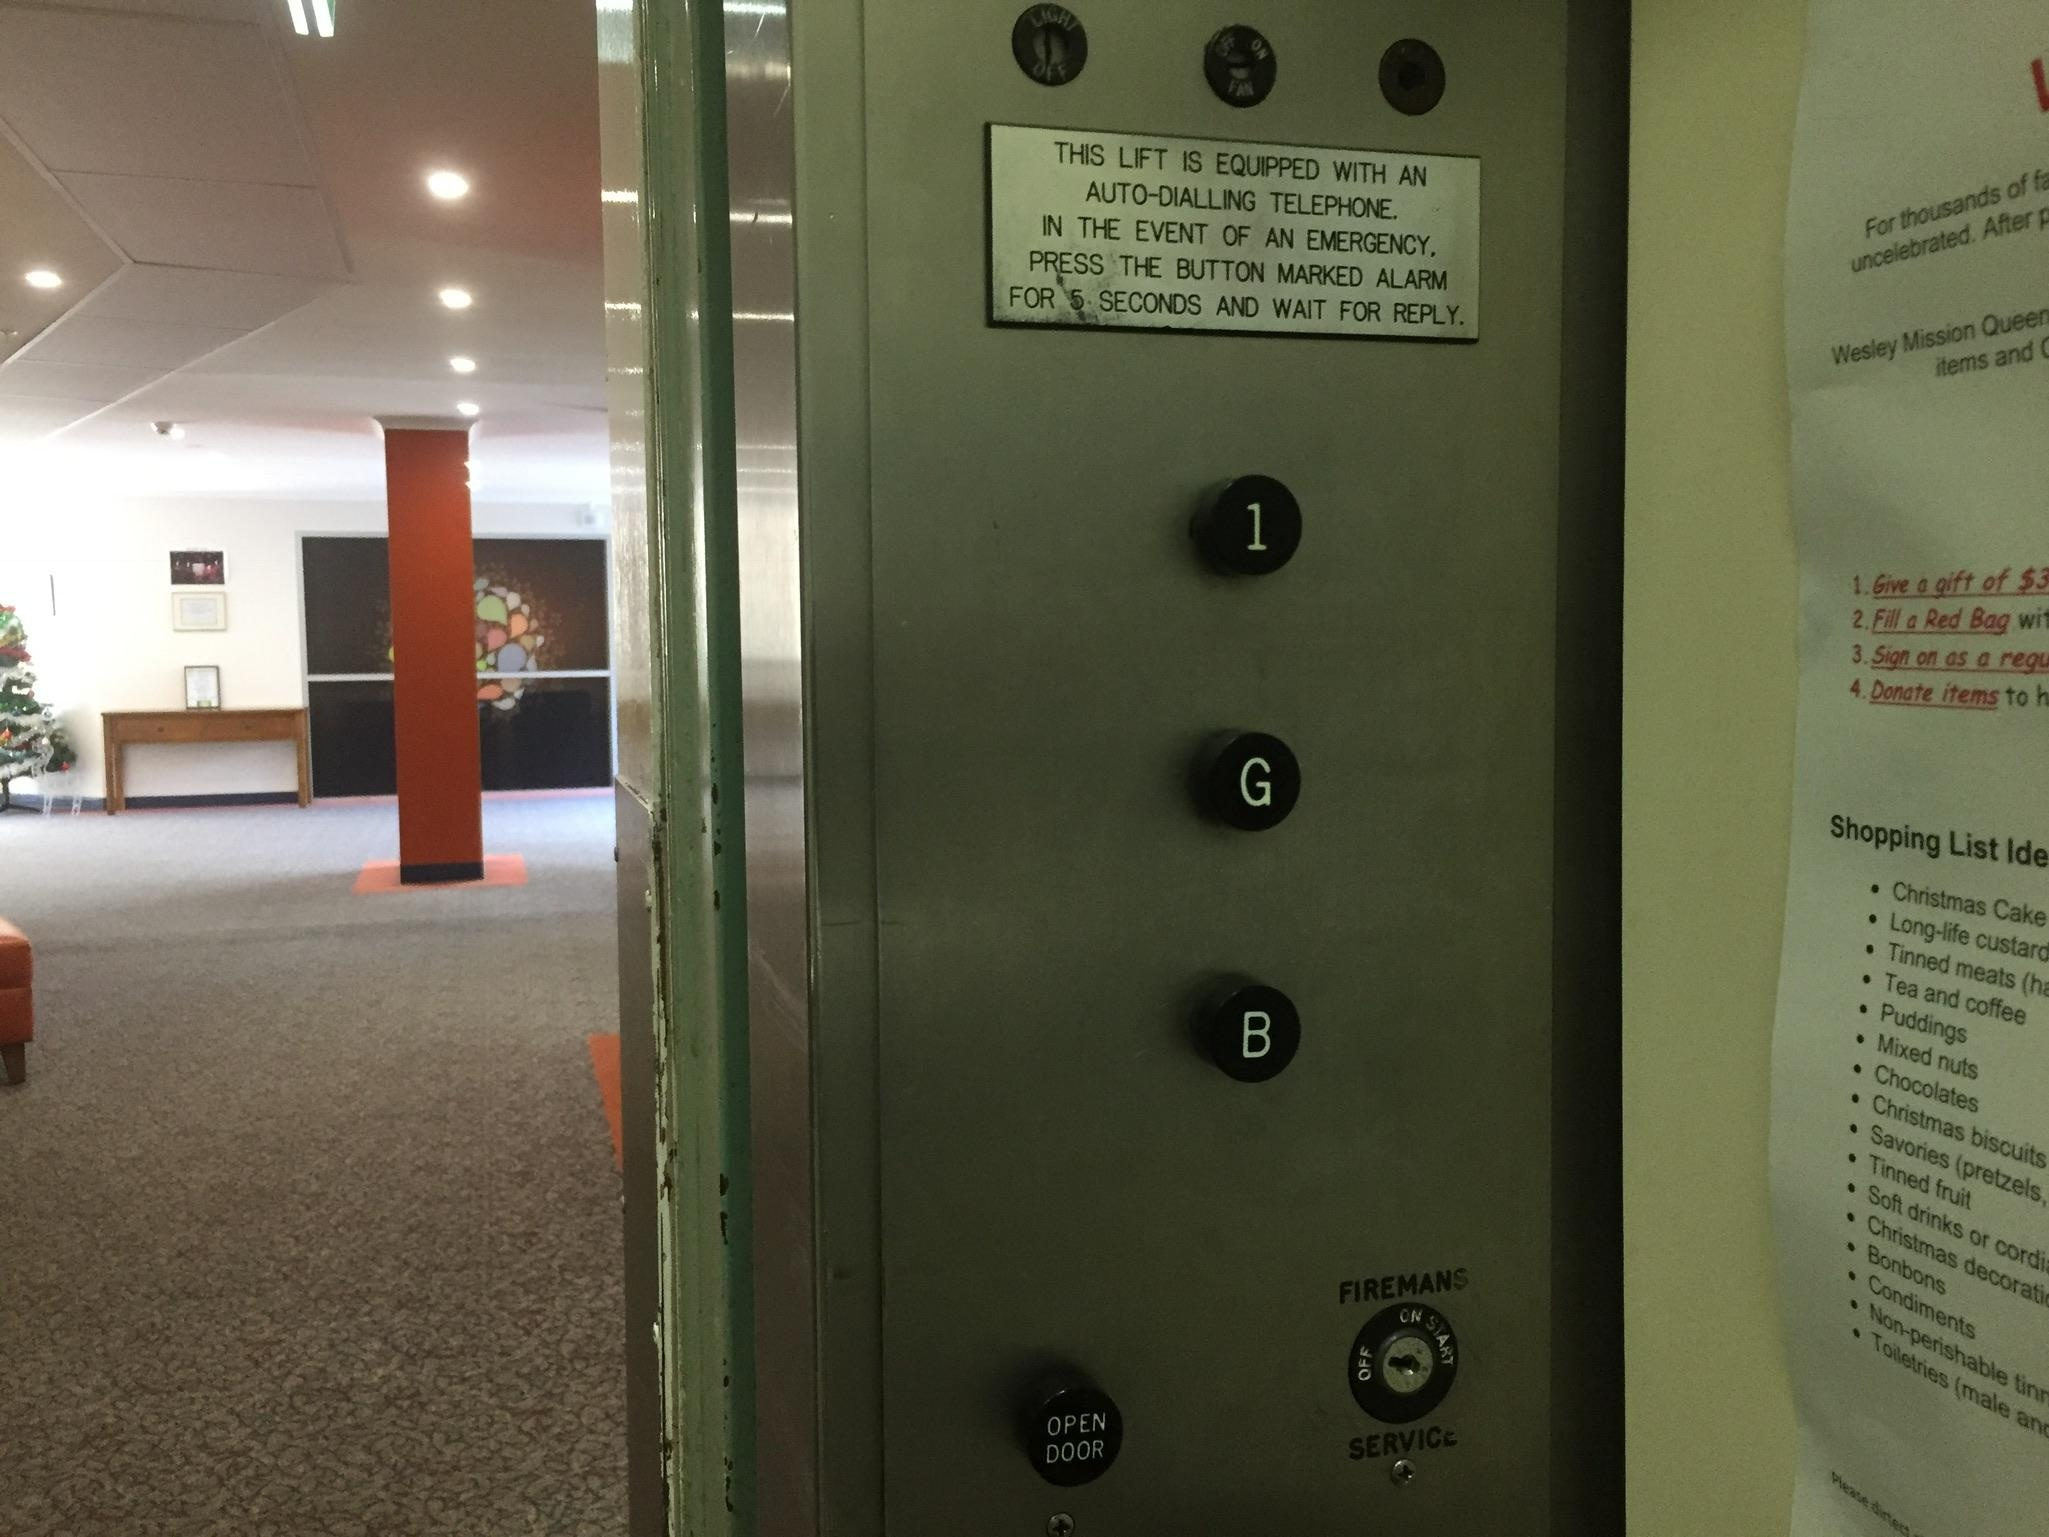1: (1184, 467, 1309, 580)
B: (1193, 974, 1305, 1091)
G: (1187, 728, 1309, 835)
empty: (1377, 37, 1447, 119)
keyhole: (1343, 1296, 1464, 1434), (1196, 21, 1287, 111), (1008, 6, 1092, 92)
text_open: (1024, 1379, 1132, 1497)
